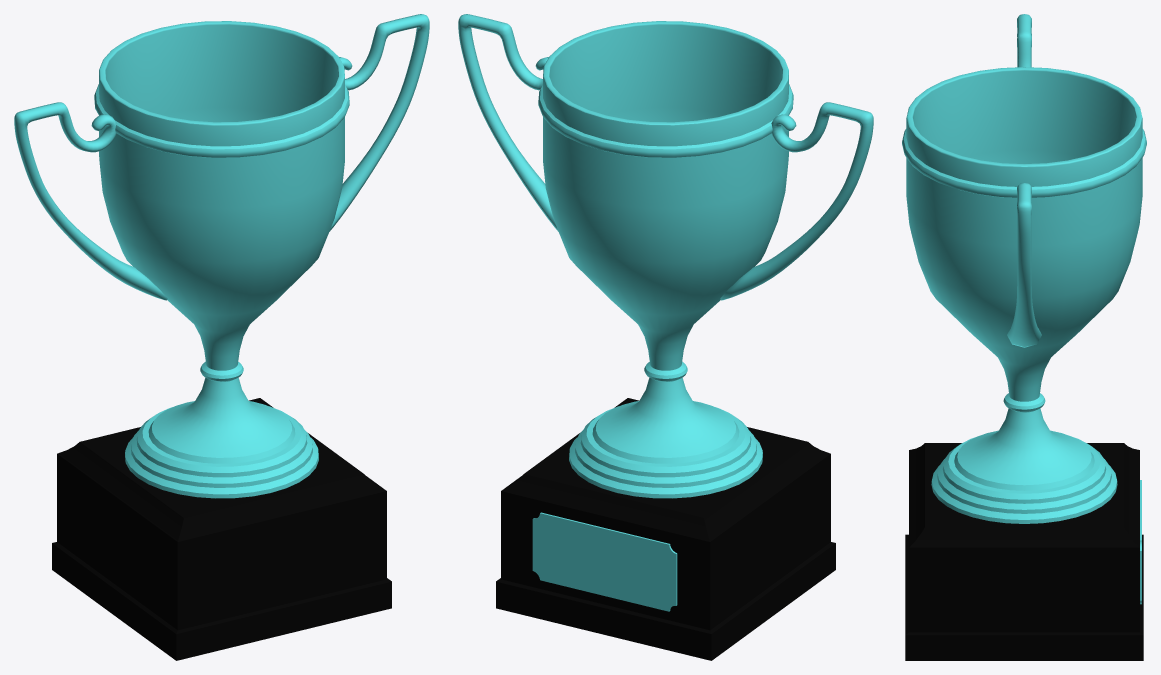
Rendered from trophy.glb.
The picture shows the model from 3 angles, left to right: view 1: azimuth 30°, elevation 25°; view 2: azimuth 150°, elevation 25°; view 3: azimuth 270°, elevation 25°; orthographic projection. The views are drawn at different scales.
Parts seen in each view (by area): view 1: Cylinder, Cube, Cube.002; view 2: Cylinder, Cube, Cube.002, Cube.001; view 3: Cylinder, Cube, Cube.002.
Boxes of the visible parts, box(x1,y1,x2,y2) form: Cylinder: box(94, 21, 349, 498); Cube: box(52, 398, 391, 660); Cube.002: box(14, 14, 429, 300); Cylinder: box(538, 21, 793, 498); Cube: box(496, 398, 835, 660); Cube.002: box(458, 14, 873, 300); Cube.001: box(532, 512, 677, 611); Cylinder: box(902, 67, 1146, 523); Cube: box(905, 443, 1143, 660); Cube.002: box(1007, 14, 1041, 347).
Bounding box in the file's own units: 3.9 × 4.75 × 2.1.
